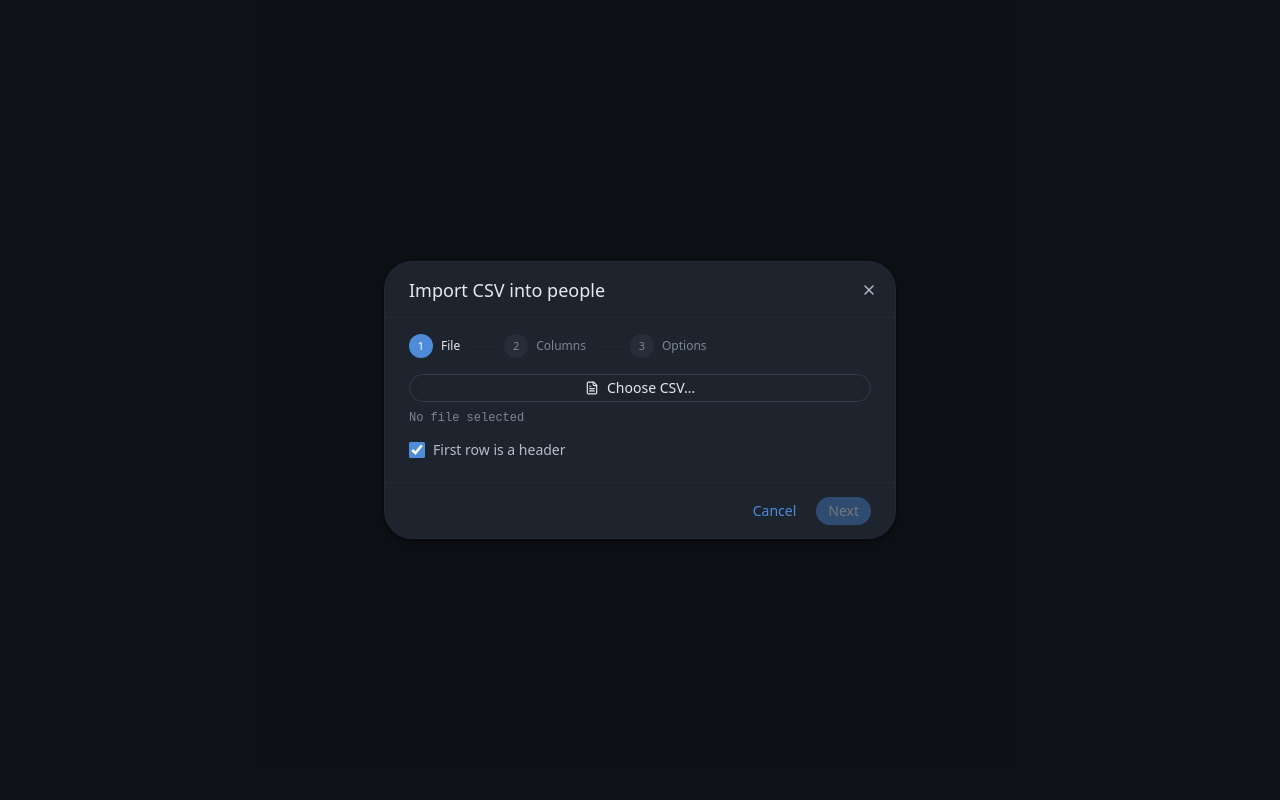
Test: ImportWizard › blocks the mapping step when no field matches a column
Click the button "Choose CSV…" at (640, 388), box 409,374 -> 871,402
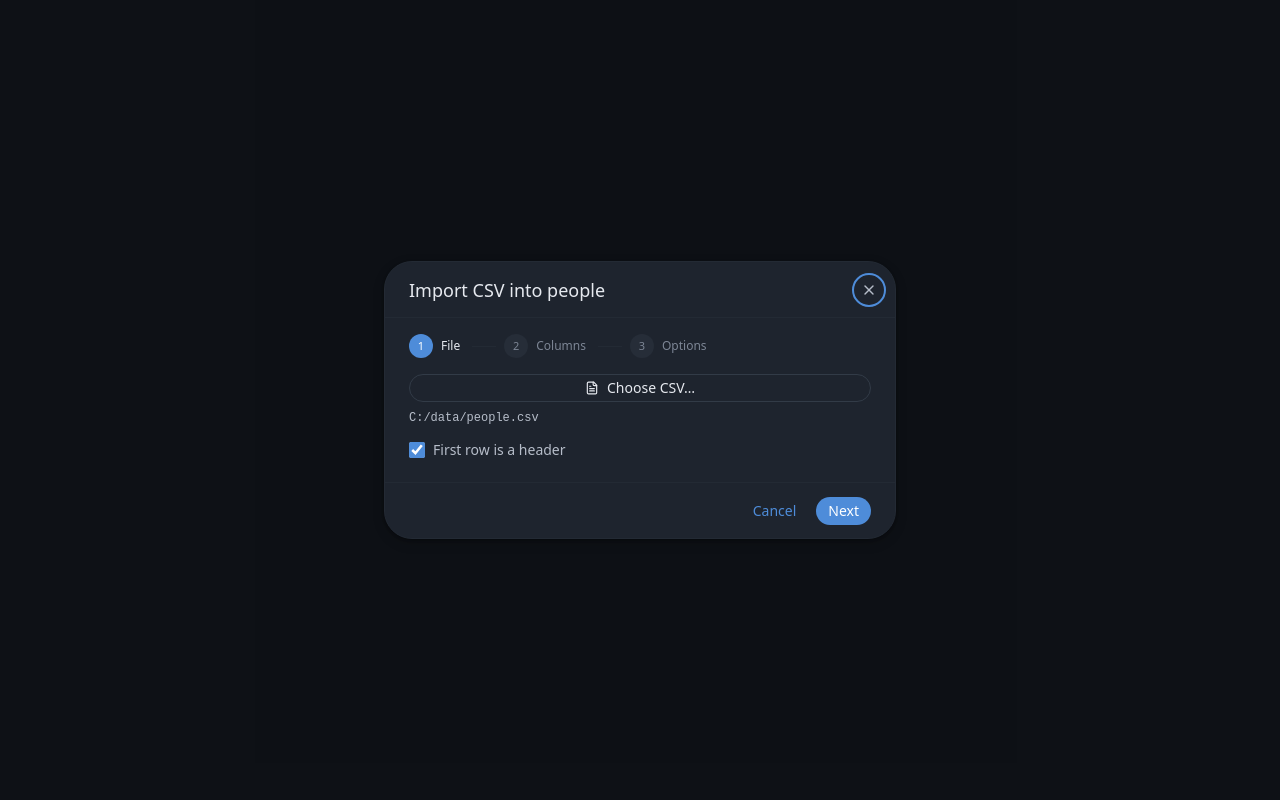
Expected: the text "C:/data/people.csv" is shown, 409,411 -> 539,425
Click the button "Next" at (844, 510), box 816,496 -> 871,524
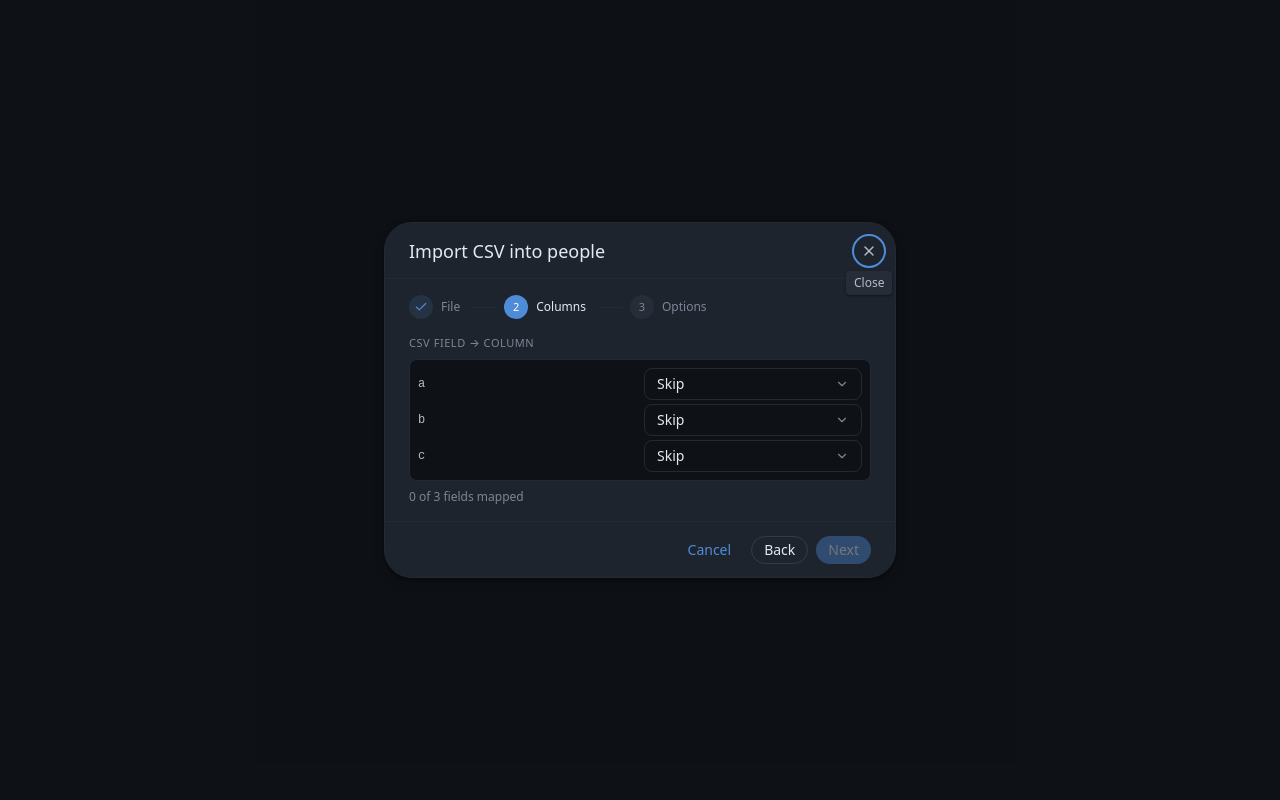
Expected: the text "0 of 3 fields mapped" is shown, 409,488 -> 524,505
Expected: the button "Next" is disabled, 816,536 -> 871,564
